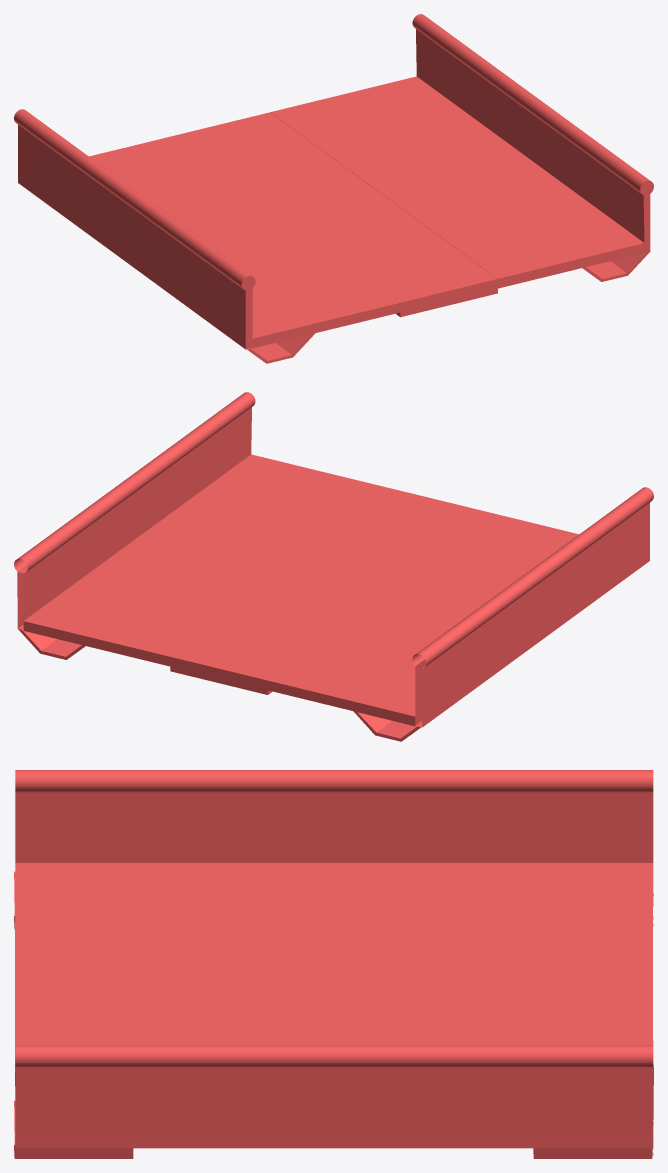
Rendered from trackpiece-sm-placed.glb.
3 views of the same model, one above another, from view 1: azimuth 30°, elevation 25°; view 2: azimuth 150°, elevation 25°; view 3: azimuth 270°, elevation 25° (orthographic). The views are drawn at different scales.
Parts seen in each view (by area): view 1: Track piece/short; view 2: Track piece/short; view 3: Track piece/short.
Part boxes in pixels (x1,y1,x2,y2): Track piece/short: (14,14,653,363); Track piece/short: (14,392,653,741); Track piece/short: (14,770,653,1158).
Size of the model in its own units: 8.34 by 1.78 by 8.
